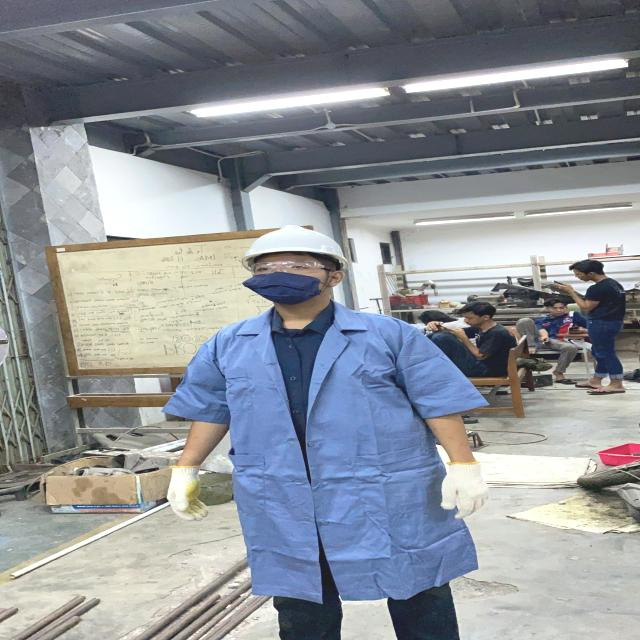face_mask: (247, 257, 330, 302)
face_nomask: (461, 313, 476, 326), (571, 271, 588, 282), (550, 305, 568, 315)
glasses: (248, 259, 338, 279)
hand_glove: (434, 459, 499, 522), (160, 461, 216, 518)
hand_noglove: (446, 326, 467, 337), (553, 282, 575, 292), (567, 326, 587, 336), (426, 320, 444, 331), (536, 336, 553, 344)
head_helmet: (240, 224, 352, 263)
head_nohelmet: (460, 300, 494, 315), (569, 257, 601, 272), (544, 297, 568, 306)
person: (159, 219, 511, 640), (564, 256, 632, 398), (512, 297, 592, 383), (428, 301, 514, 377)
